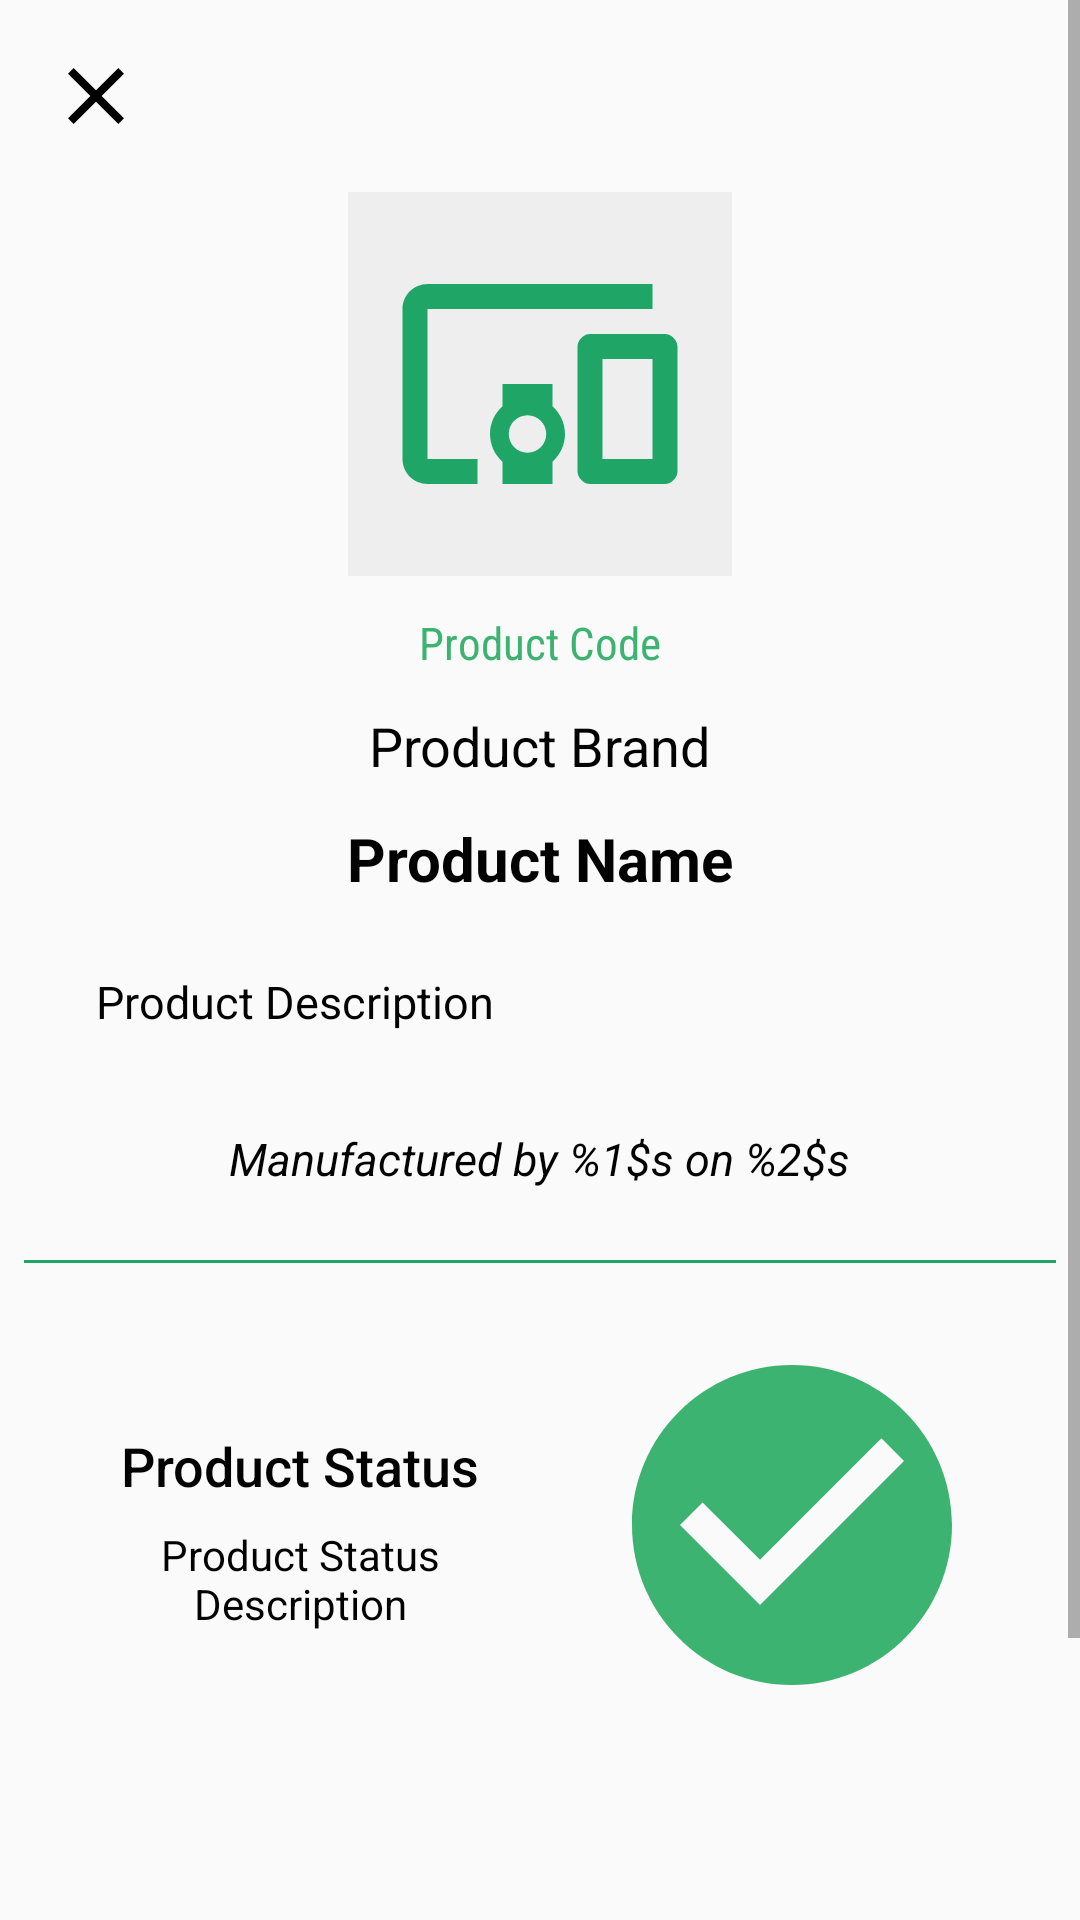

Locate icon controls on the screen. Image size 1080×1920, boxes as (x1, y1, x2, y2).
check circle: (632, 1365, 952, 1685)
close: (68, 68, 124, 124)
